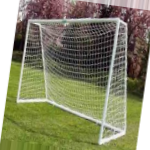goals: (17, 17, 128, 145)
